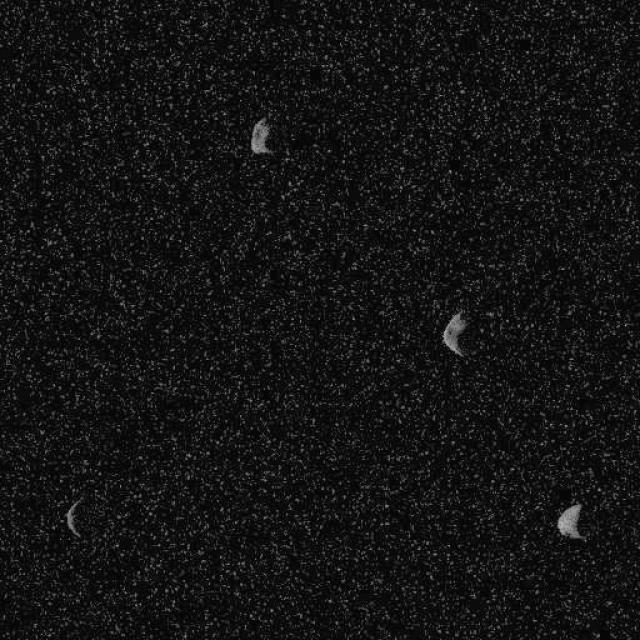D2: (440, 308, 471, 358), (555, 501, 586, 540), (249, 115, 275, 155), (65, 496, 85, 539)
